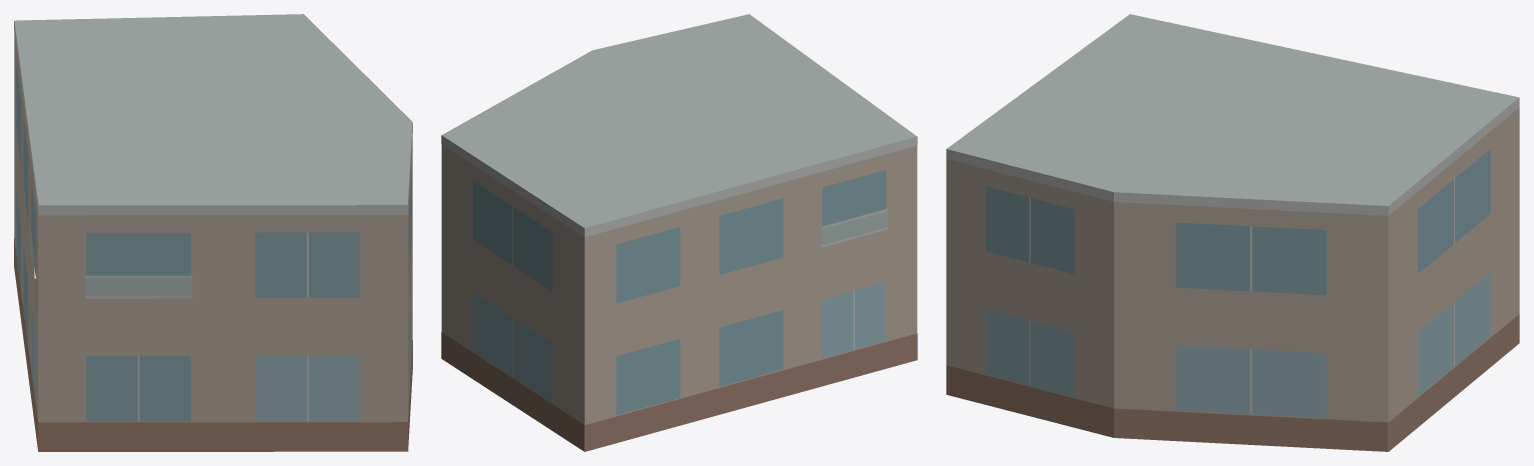
The model's file is survey-upis-32546130.glb.
The picture shows the model from 3 angles, left to right: view 1: azimuth 30°, elevation 25°; view 2: azimuth 150°, elevation 25°; view 3: azimuth 270°, elevation 25°; orthographic projection. The views are drawn at different scales.
Parts seen in each view (by area): view 1: survey-upis-32546130.tmp; view 2: survey-upis-32546130.tmp; view 3: survey-upis-32546130.tmp.
Part boxes in pixels (bbox=[...]): survey-upis-32546130.tmp: bbox=[14, 14, 412, 451]; survey-upis-32546130.tmp: bbox=[441, 14, 917, 451]; survey-upis-32546130.tmp: bbox=[946, 14, 1519, 451].
Size of the model in its own units: 10.24 by 6.1 by 12.91.
